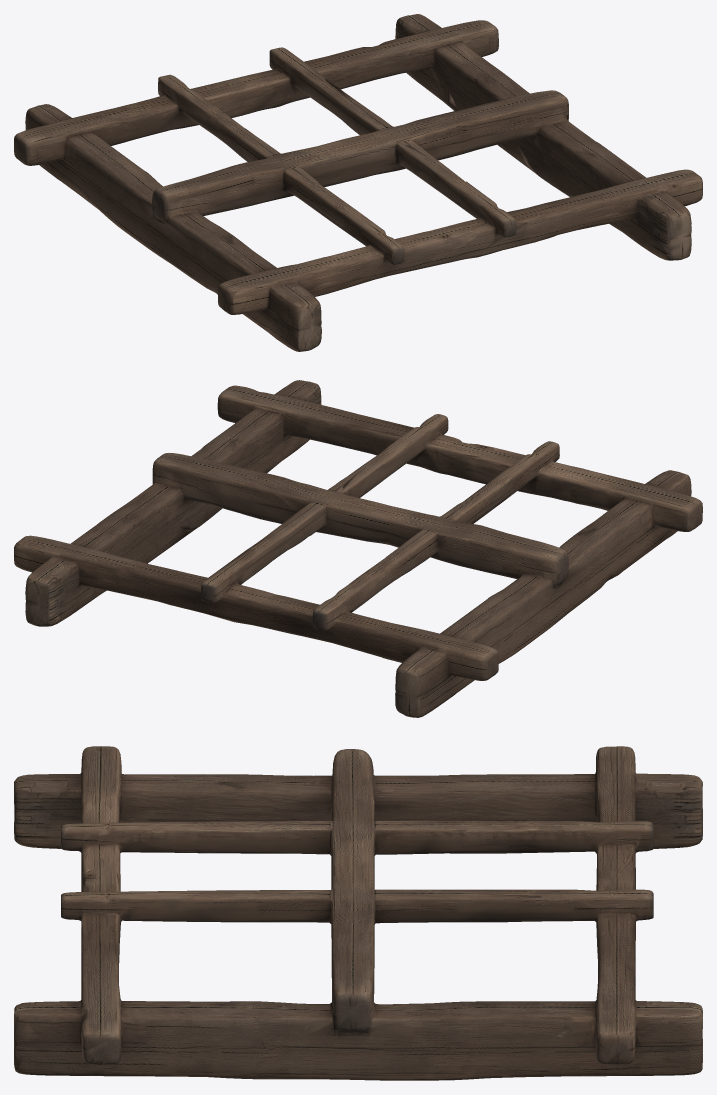
File: arbor.glb
3 renders of one model, top to bottom at view 1: azimuth 30°, elevation 25°; view 2: azimuth 150°, elevation 25°; view 3: azimuth 270°, elevation 25°, orthographic. The views are drawn at different scales.
Visible parts, largest first — view 1: Mesh_0.001; view 2: Mesh_0.001; view 3: Mesh_0.001.
Part boxes in pixels (x1,y1,x2,y2): Mesh_0.001: (14,14,702,351); Mesh_0.001: (14,380,702,717); Mesh_0.001: (14,746,702,1080).
Bounding box in the file's own units: 0.8183 × 0.12 × 0.8185.
1 material, 1 textured.
